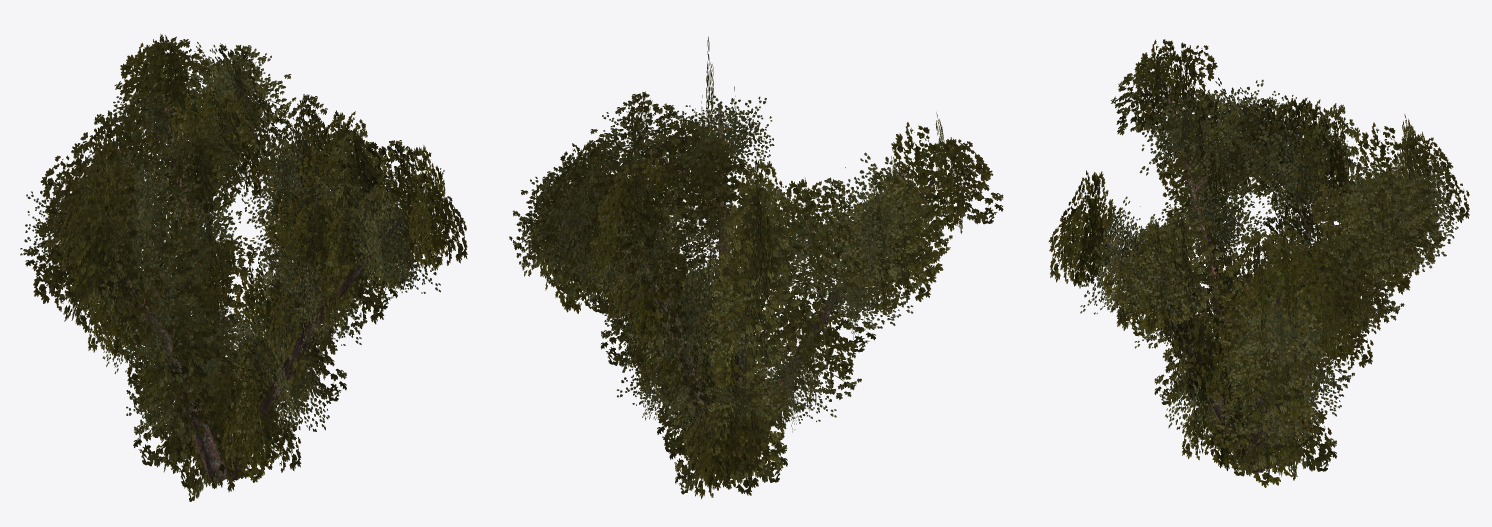
The model's file is bush_3d_03_lod0.glb.
3 renders of one model, left to right at view 1: azimuth 30°, elevation 25°; view 2: azimuth 150°, elevation 25°; view 3: azimuth 270°, elevation 25°, orthographic. The views are drawn at different scales.
Visible parts, largest first — view 1: foliage_cards, wood_geometry; view 2: foliage_cards, wood_geometry; view 3: foliage_cards, wood_geometry.
Part boxes in pixels (x1,y1,x2,y2): foliage_cards: (20,34,467,501); wood_geometry: (64,80,403,481); foliage_cards: (509,36,1003,498); wood_geometry: (618,103,935,474); foliage_cards: (1048,39,1469,487); wood_geometry: (1099,98,1424,472).
Bounding box in the file's own units: 2.39 × 2.09 × 2.27.
Materials: 2 (2 with a texture image).
